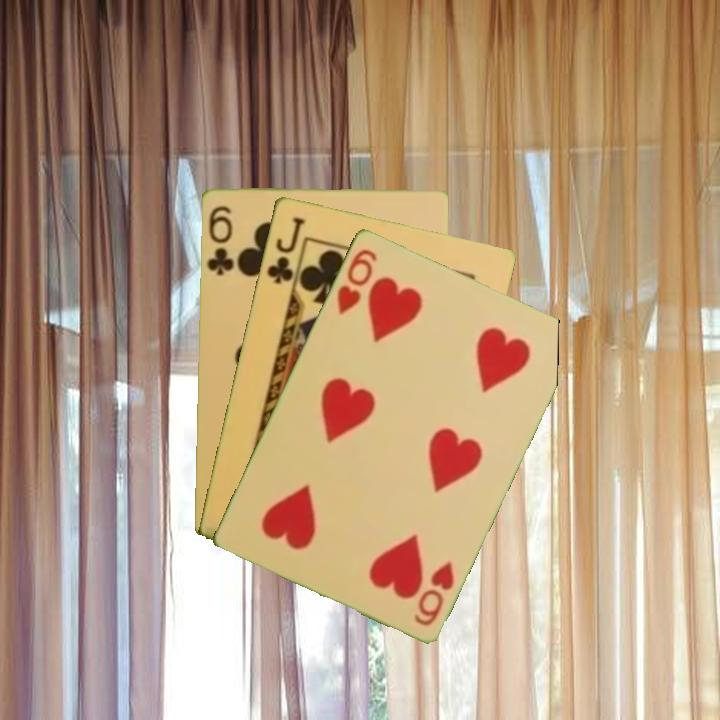6c: (203, 201, 236, 278)
6h: (333, 244, 380, 318), (410, 556, 457, 629)
Jc: (263, 213, 307, 286)
